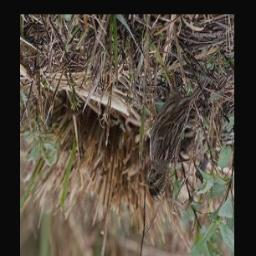Sparrow: (141, 60, 212, 203)
